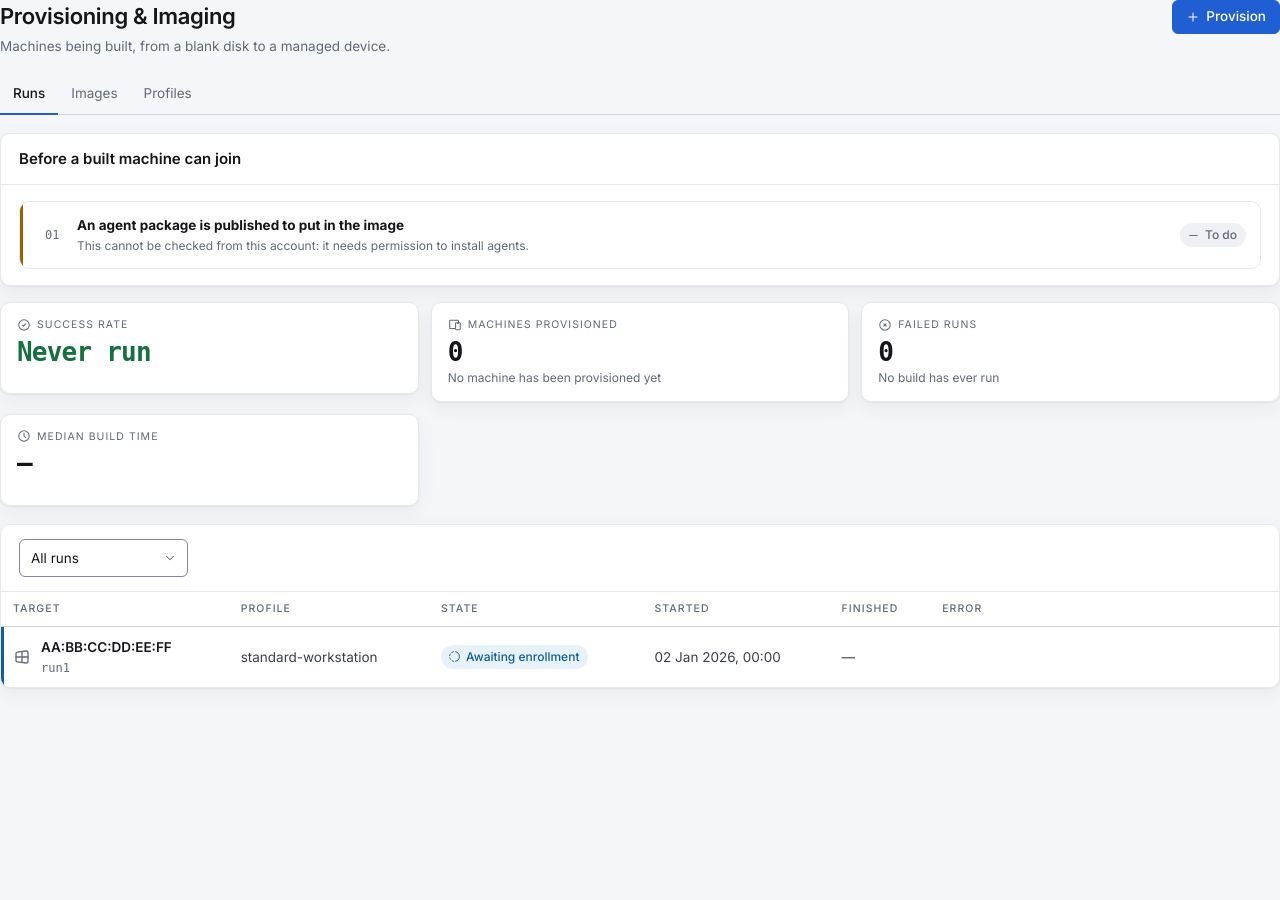
the Provision a device modal › offers the Profile as a searchable list, not a select, and distinguishes options
Click the button "Provision" at [1226, 17], box x1=1172 y1=0 x2=1279 y2=34
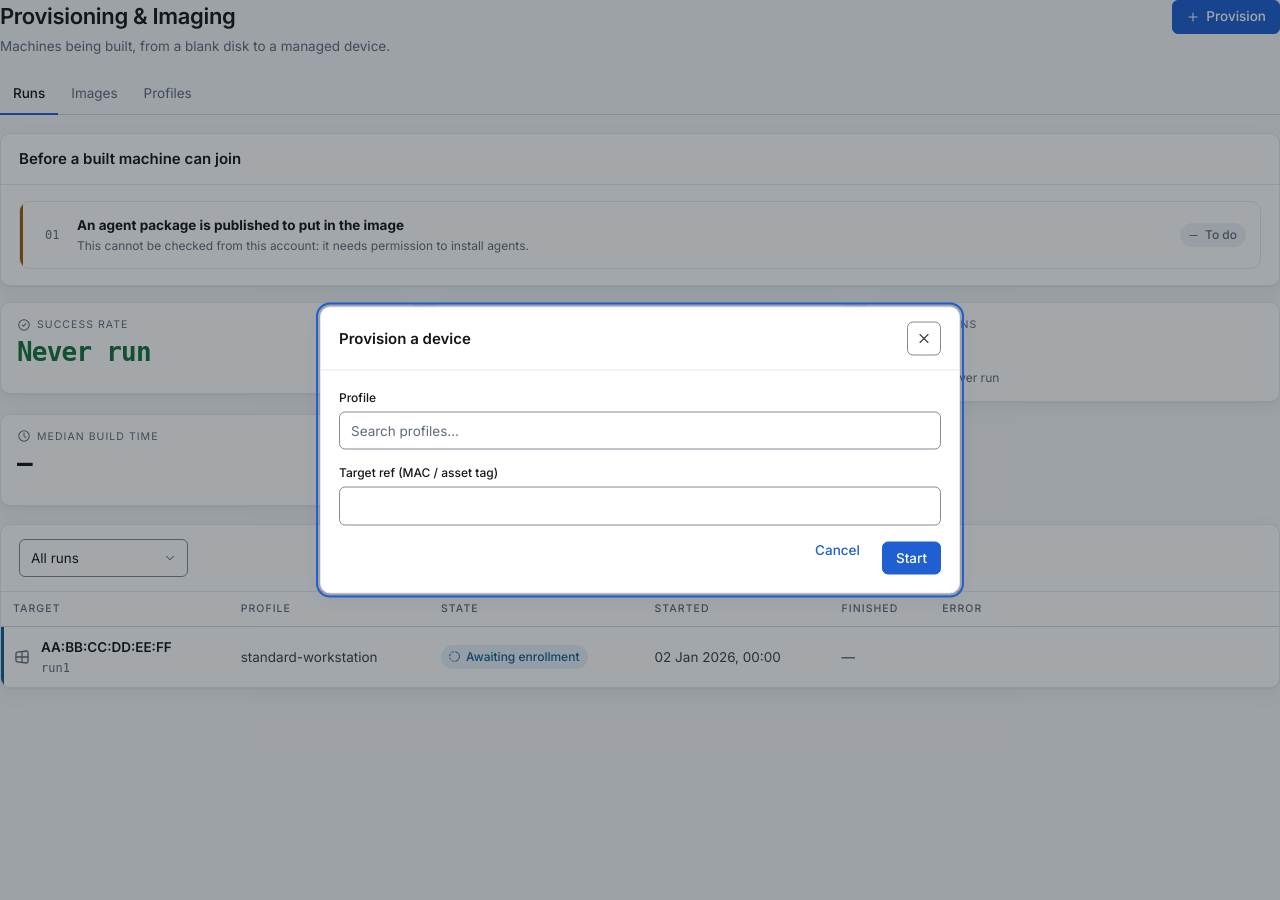
Click the dropdown labelled "Profile" at [640, 431], box x1=339 y1=412 x2=941 y2=450
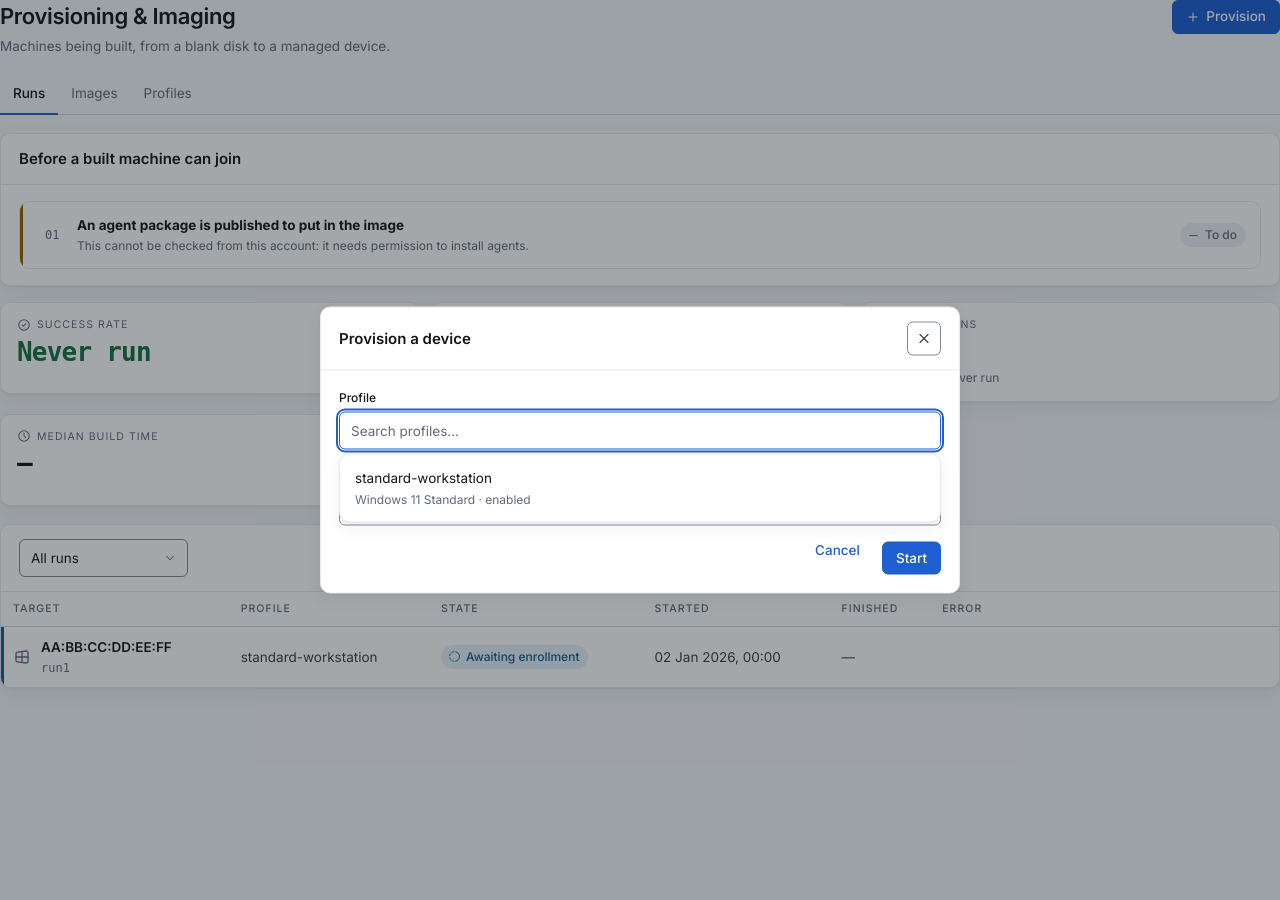
Result: the option "standard-workstation Windows 11 Standard · enabled" is shown at x1=345 y1=460 x2=935 y2=516
